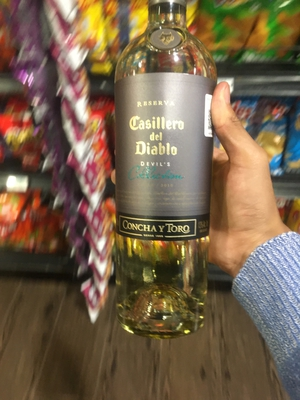casillero del diablo devils collection verde: (100, 12, 216, 329)
